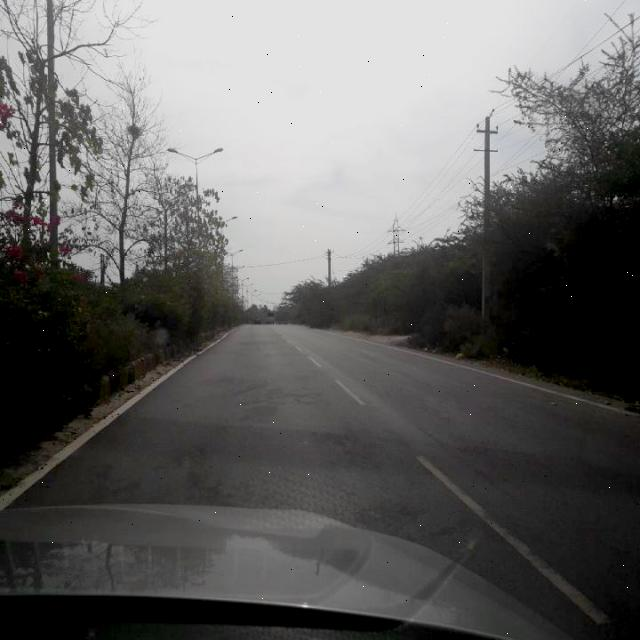D40: (271, 388, 332, 413)
